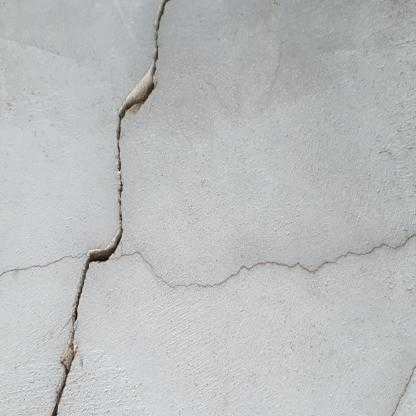crack: (51, 0, 167, 414)
